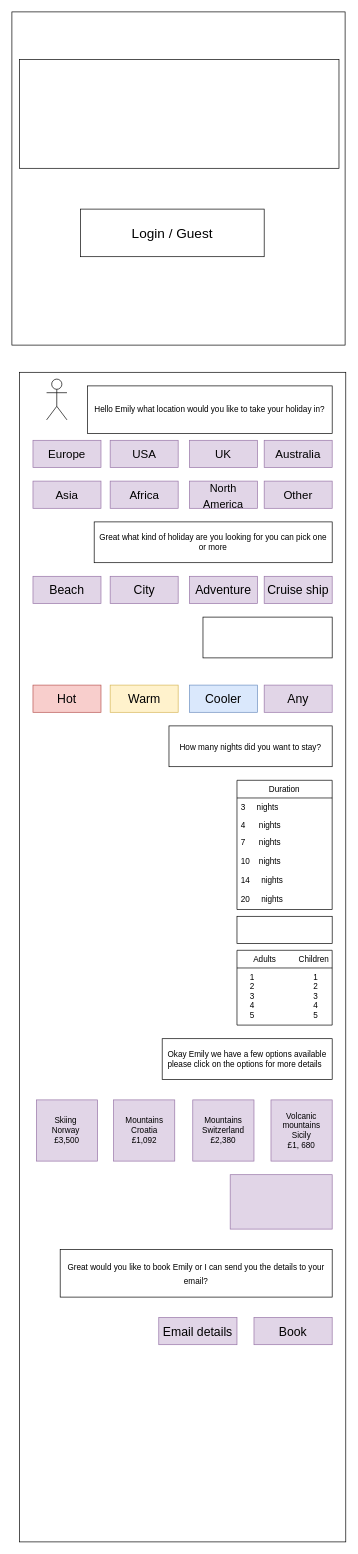
Some shapes in this 358 by 1554 pixel diagram are drawn without their labels. The shapes that lost their labels are listed below. From the top down, each one's centre as x and y in pixels, then its label:
At [179,113]: "Find your dream holiday today".
At [56,399]: "Bots name".
At [267,637]: "What temperature do you prefer?".
At [284,930]: "How many people you looking to book for?".
At [281,1201]: "None".
